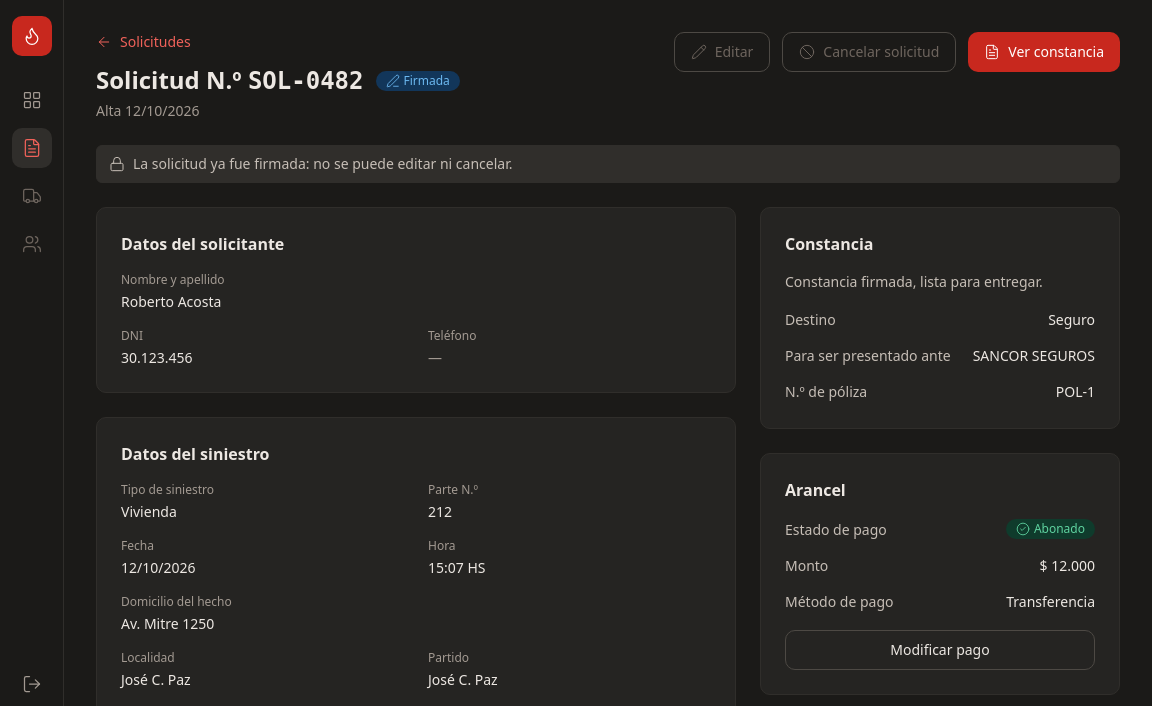
Scenario: SolicitudDetallePage · arancel (US14) › al modificar precarga el monto con miles y enfoca el estado vigente
Click the button "Modificar pago". click: (940, 650)
box: [785,630,1095,670]
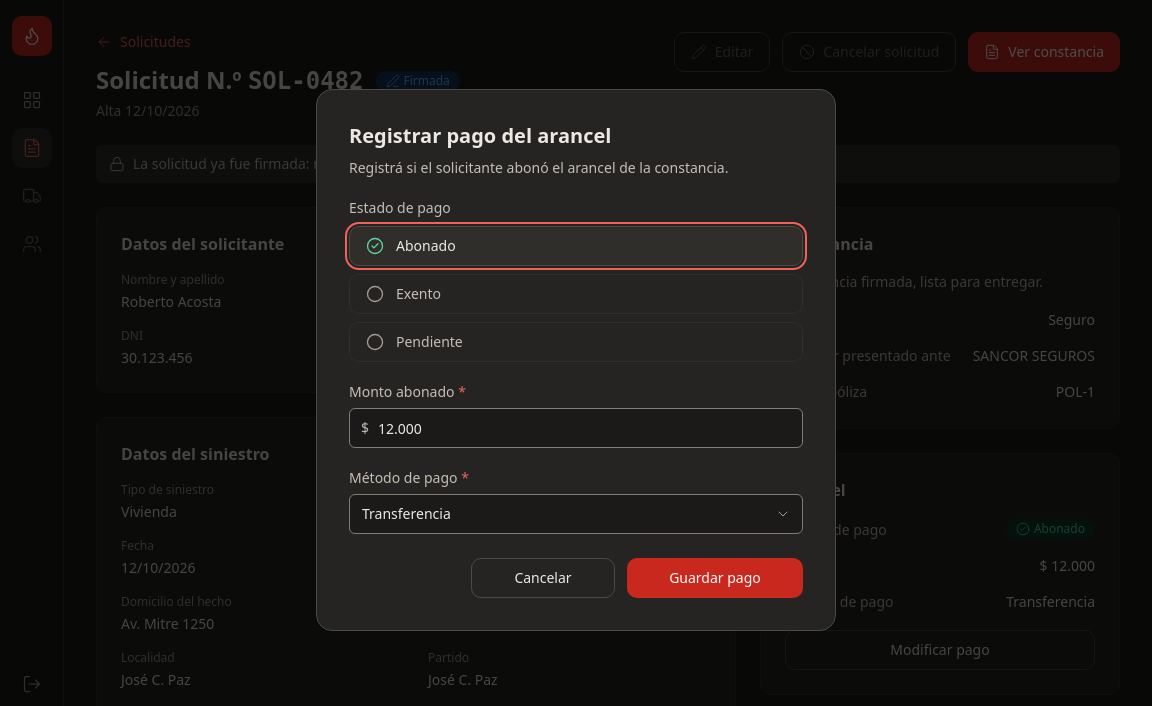
Expected: the field labelled "Monto abonado *" holds "12.000", [349,408,803,448]
